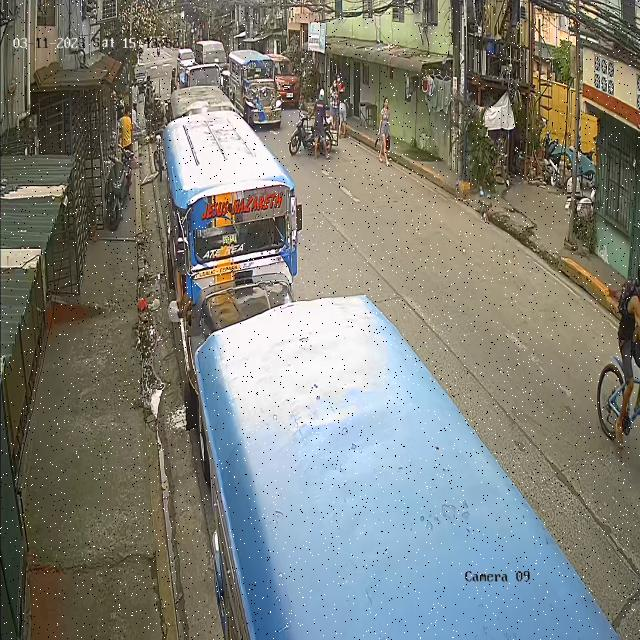garbage_dumping: (386, 130, 392, 150)
